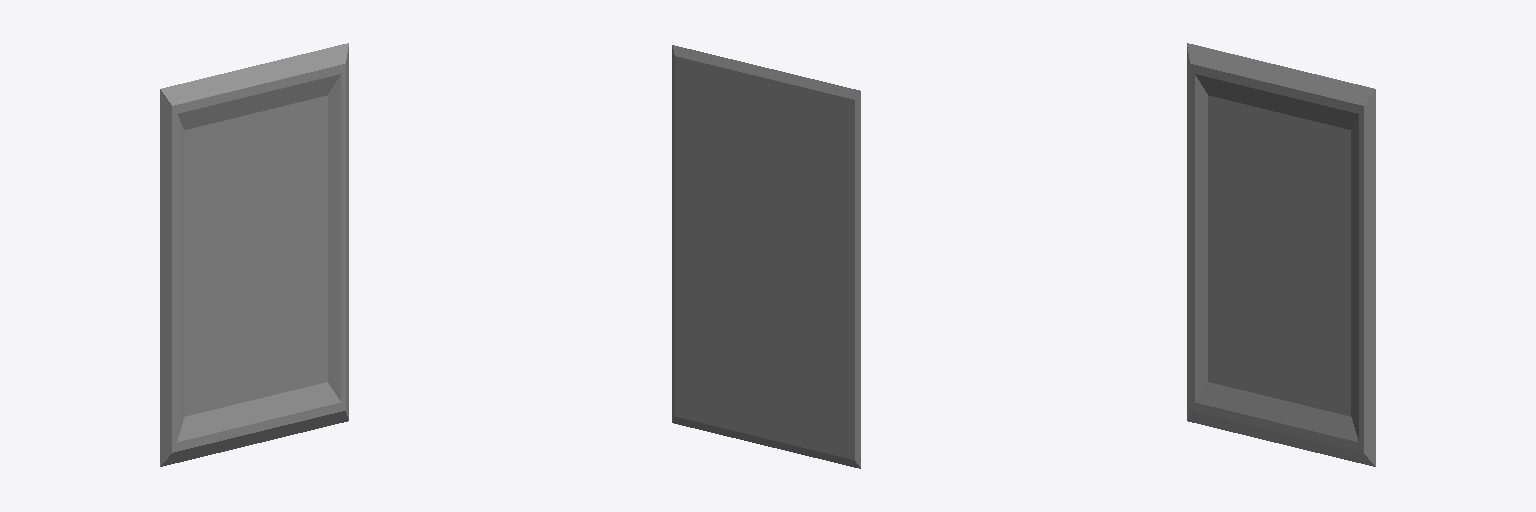
File: quadre.obj
3 renders of one model, left to right at view 1: azimuth 30°, elevation 25°; view 2: azimuth 150°, elevation 25°; view 3: azimuth 330°, elevation 25°, orthographic.
Parts seen in each view (by area): view 1: Plane; view 2: Plane; view 3: Plane.
Part boxes in pixels (bbox=[...]): Plane: bbox=[160, 43, 348, 466]; Plane: bbox=[672, 45, 860, 468]; Plane: bbox=[1187, 43, 1375, 466].
Bounding box in the file's own units: 3.28 × 6.27 × 0.1841.